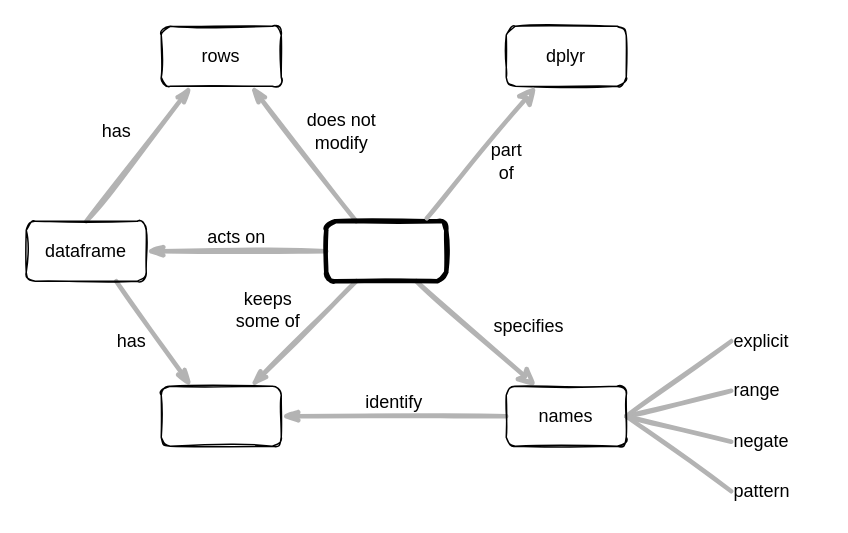
Image size: 848x533. Some labels were removed from this diagram. The box of each missing label's shape, as (x1, y1, x2, y2) in pixels:
columns: (160, 385, 281, 446)
select: (323, 218, 448, 283)
